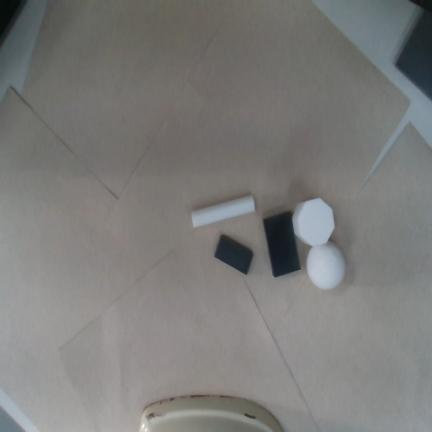Cilindro: (191, 195, 255, 229), (227, 250, 227, 250)
Esfera: (306, 241, 346, 291)
Paralelepipedo: (263, 211, 301, 278), (214, 234, 254, 275)
Prisma_hexagonal: (292, 198, 335, 246)
